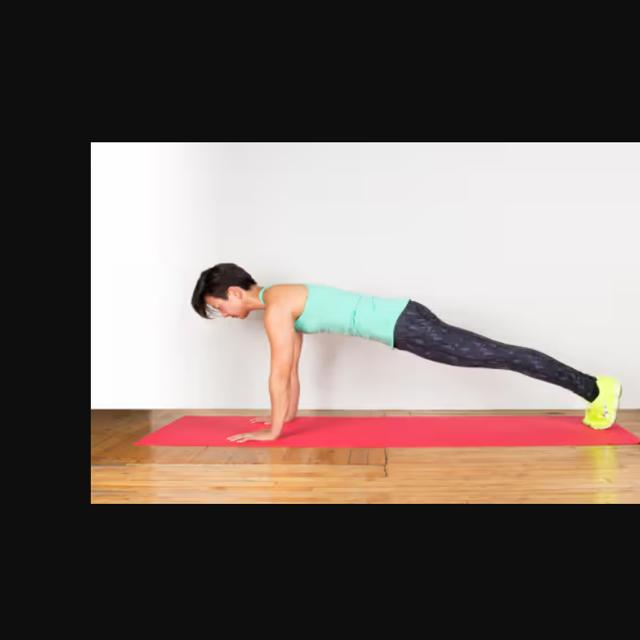Plank_Pose: (184, 266, 627, 450)
